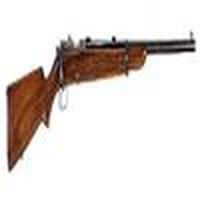gun: (10, 28, 200, 175)
